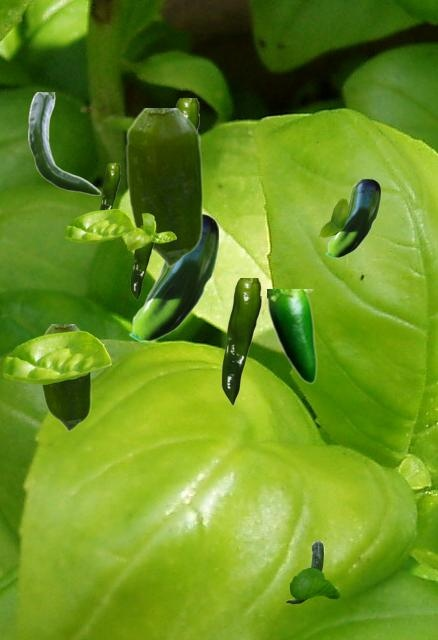green_chili: (125, 108, 202, 266), (128, 214, 217, 341), (28, 92, 100, 194), (41, 324, 90, 430), (221, 278, 260, 404), (267, 289, 316, 383), (325, 179, 379, 257), (285, 541, 323, 603), (130, 225, 153, 299), (99, 163, 119, 209), (175, 98, 198, 130)
